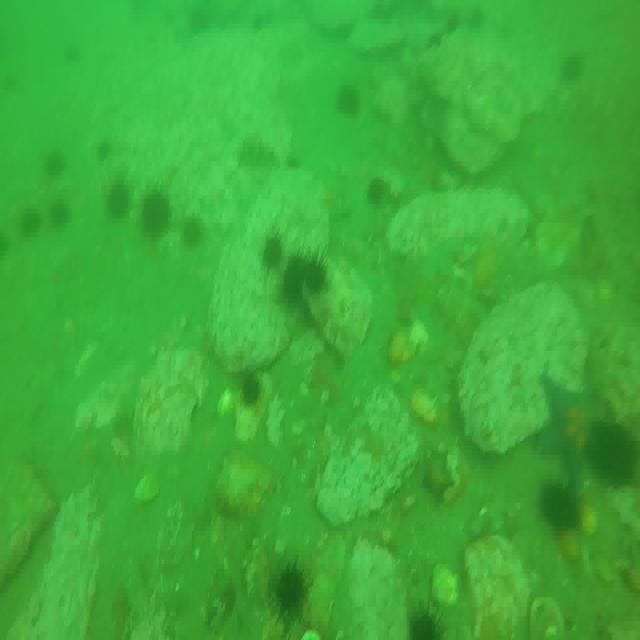echinus: (596, 419, 638, 488), (273, 562, 312, 616), (542, 478, 577, 528), (283, 255, 311, 316), (406, 599, 446, 640), (141, 192, 172, 242), (107, 178, 131, 218), (304, 255, 328, 294), (334, 86, 362, 118), (261, 234, 285, 270), (49, 196, 72, 228), (366, 180, 392, 208), (564, 47, 586, 80), (240, 372, 260, 406), (183, 215, 203, 248), (43, 153, 68, 179), (20, 209, 40, 238), (98, 139, 115, 164)
scallop: (233, 399, 261, 445)
starfish: (537, 373, 610, 487), (422, 450, 453, 502)
